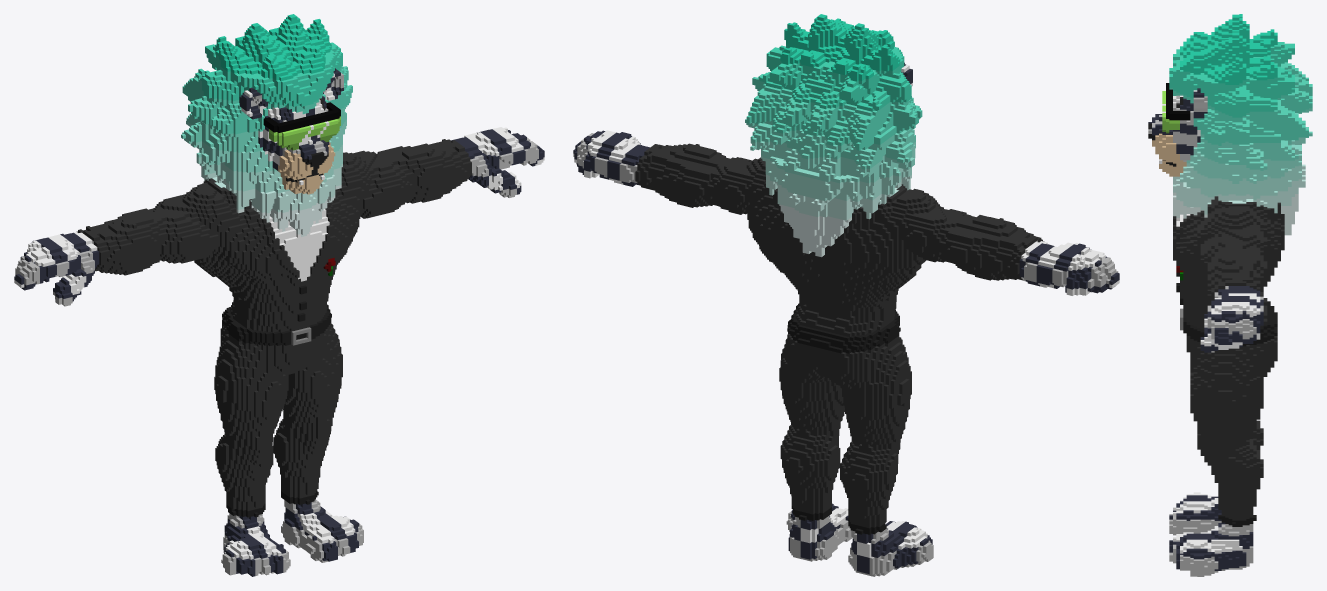
Rendered from 934-CwjtXof5.fbx.
3 renders of one model, left to right at view 1: azimuth 30°, elevation 25°; view 2: azimuth 150°, elevation 25°; view 3: azimuth 270°, elevation 25°, orthographic. The views are drawn at different scales.
Parts seen in each view (by area): view 1: standard; view 2: standard; view 3: standard.
Boxes of the visible parts, box(x1,y1,x2,y2) form: standard: box(14, 14, 544, 576); standard: box(573, 14, 1119, 576); standard: box(1148, 14, 1312, 576).
Bounding box in the file's own units: 17.2 × 16.5 × 4.7.
Materials: 5 (5 with a texture image).
